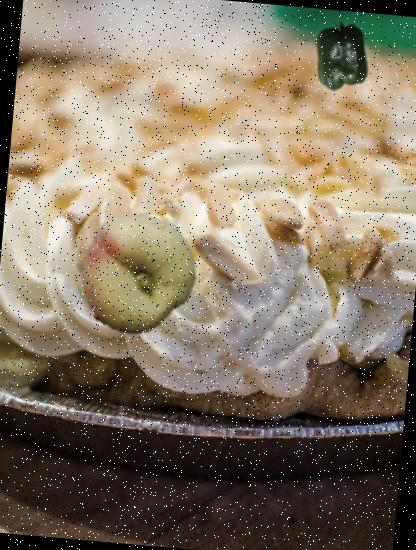Peach: (70, 207, 204, 341)
Pepper: (304, 20, 378, 94)
